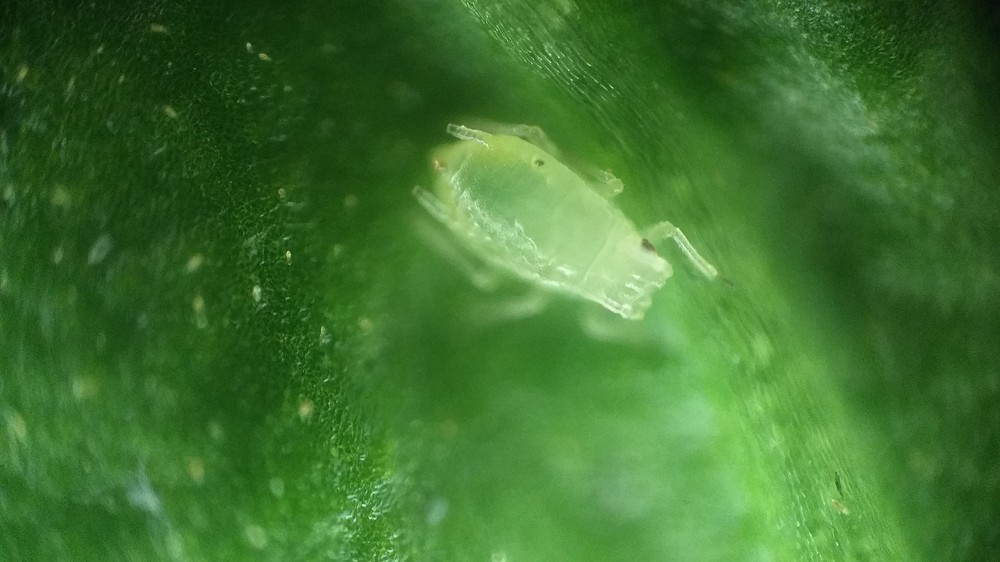Pulgon: (396, 102, 732, 382)
